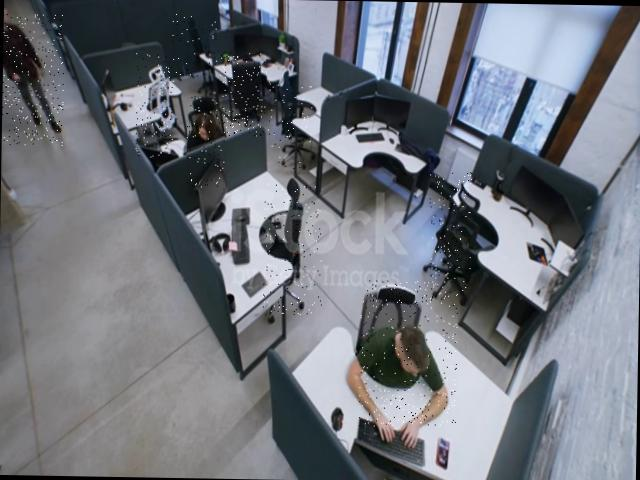empty chair: (263, 183, 324, 316), (428, 171, 472, 293), (218, 50, 268, 136), (267, 78, 313, 171), (134, 52, 174, 158), (172, 13, 222, 76)
occupiedchair: (359, 280, 458, 428), (186, 93, 226, 190)
